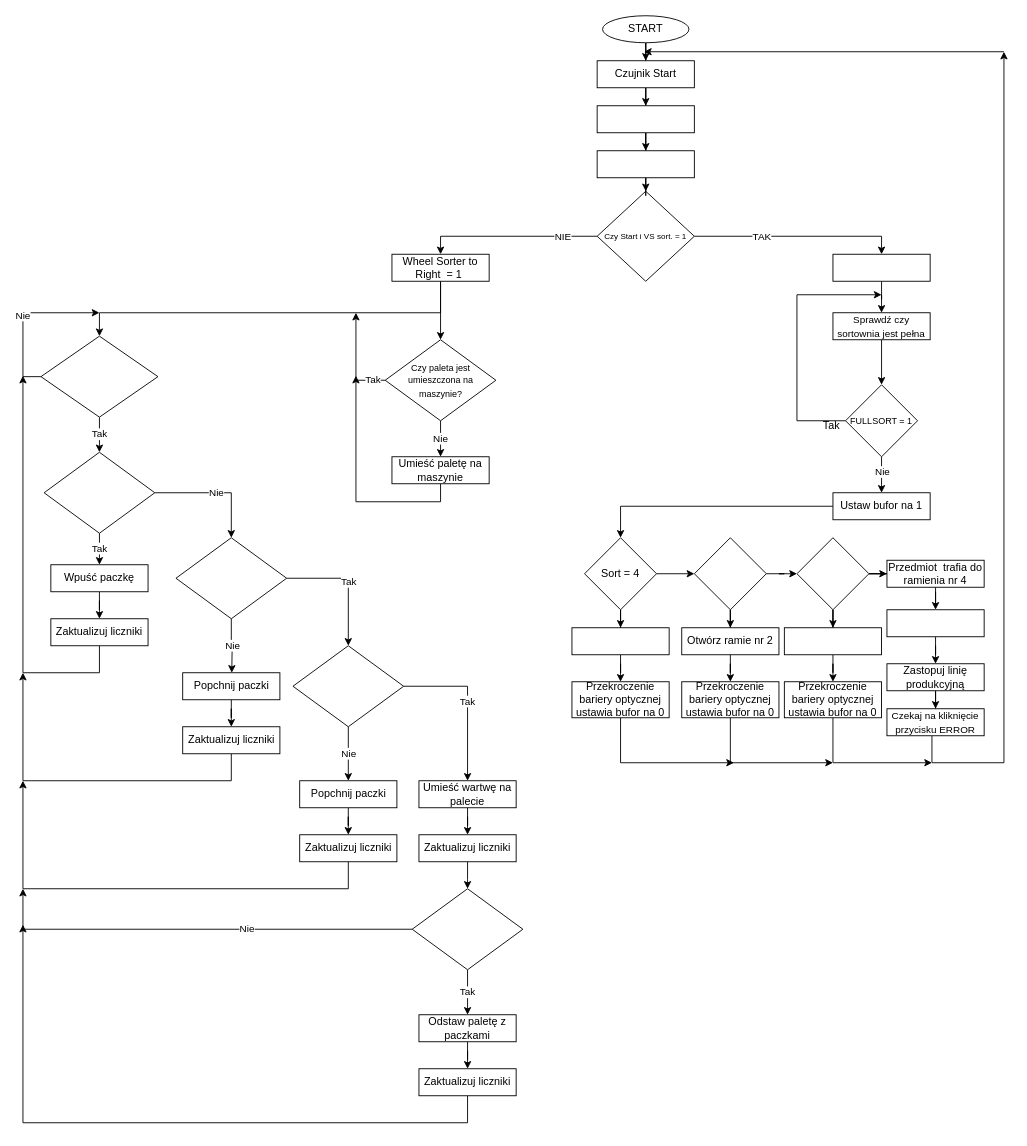
This 1027x1146 diagram has some shape labels left out. The shapes that lost their labels are listed below. From the top down, each one's box as (x1, y1, x2, y2) in pixels, then its label:
(596, 105, 694, 133): Czujnik VS Sorting
(596, 150, 694, 178): Zapisz do zmiennej Sort wartość z VS
(832, 253, 930, 281): Wheel Sorter to Right= 0
(40, 335, 158, 417): Czy pojawiła się nowa paczka?
(43, 451, 155, 533): Aktualne paczki w rzędzie < ilość paczek w rzędzie
(175, 537, 287, 619): Limit rzędów?
(693, 537, 766, 610): Sort = 1
(796, 537, 869, 610): Sort = 7
(571, 627, 669, 655): Otwórz ramie nr 1
(783, 627, 882, 655): Otwórz ramie nr 3
(886, 609, 984, 637): Włącz alarm
(292, 645, 404, 727): Limit kolumn?
(411, 888, 523, 970): Paleta gotowa od odstawienia?
